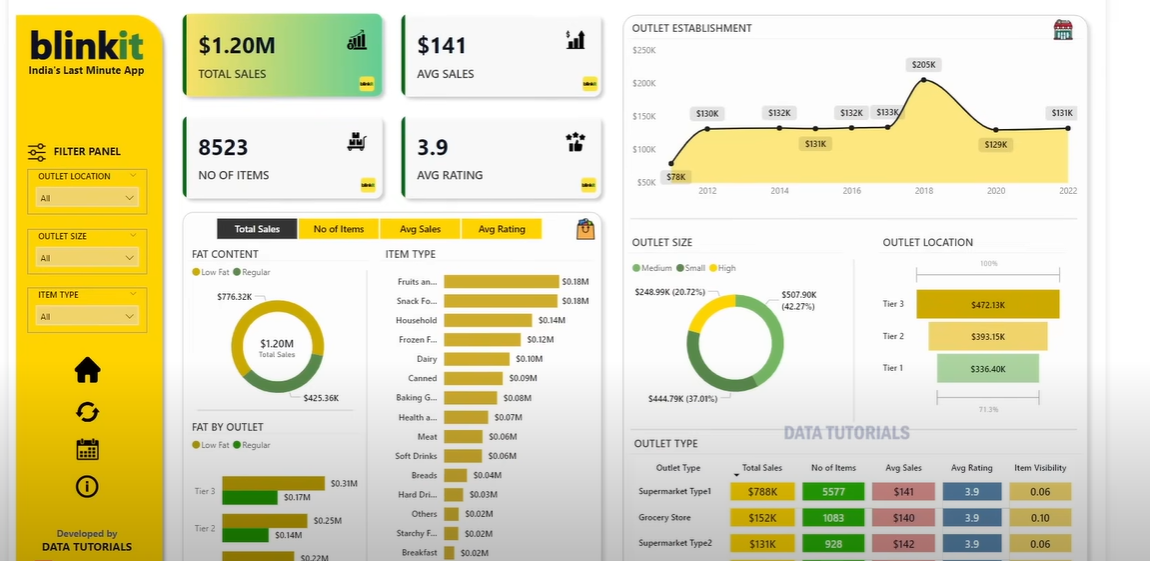

The page's visual inventory and layout, read from the dashboard file:
{"tool":"powerbi","page":{"name":"HOME","canvas":[1400,800],"ordinal":0},"visuals":[{"type":"shape","box":[0,0,204.1,785],"z":0},{"type":"textbox","box":[12,15,165.1,88.6],"z":1000},{"type":"textbox","box":[22.5,72,205.6,31.5],"z":2000},{"type":"textbox","box":[759.4,748.9,12,12],"z":3000},{"type":"cardVisual","fields":{"Data":["BlinkIT Grocery Data.Total sales","BlinkIT Grocery Data.Avg Sales","BlinkIT Grocery Data.No of items","BlinkIT Grocery Data.Avg Rating"]},"box":[204.1,15,541.8,270.2],"z":4000},{"type":"shape","box":[205.6,285.2,528.3,489.3],"z":5000},{"type":"donutChart","title":"FAT CONTENT","fields":{"Y":["BlinkIT Grocery Data.No of items"],"Category":["BlinkIT Grocery Data.Item Fat Content"]},"box":[228.1,351.2,220.6,189.1],"z":6000},{"type":"slicer","fields":{"Values":["Metrics.Metrics"]},"box":[228.1,300.2,465.3,40.5],"z":7000},{"type":"cardVisual","fields":{"Data":["BlinkIT Grocery Data.No of items"]},"box":[294.2,435.3,93.1,70.5],"z":8000},{"type":"clusteredBarChart","title":"FAT BY OUTLET","fields":{"Y":["BlinkIT Grocery Data.No of items"],"Category":["BlinkIT Grocery Data.Outlet Location Type"],"Series":["BlinkIT Grocery Data.Item Fat Content"]},"box":[228.1,540.3,229.6,220.6],"z":9000},{"type":"shape","box":[228.1,492.3,213.1,96.1],"z":10000},{"type":"shape","box":[351.2,351.2,213.1,397.7],"z":11000},{"type":"barChart","title":"ITEM TYPE","fields":{"Y":["BlinkIT Grocery Data.No of items"],"Category":["BlinkIT Grocery Data.Item Type"]},"box":[463.8,351.2,247.6,397.7],"z":12000},{"type":"shape","box":[733.9,28.5,655.9,745.9],"z":13000},{"type":"lineChart","title":"OUTLET ESTABLISHMENT","fields":{"Y":["BlinkIT Grocery Data.Total sales"],"Category":["BlinkIT Grocery Data.Outlet Establishment Year"]},"box":[745.9,51,625.9,270.2],"z":14000},{"type":"donutChart","title":"OUTLET SIZE","fields":{"Y":["BlinkIT Grocery Data.Total sales"],"Category":["BlinkIT Grocery Data.Outlet Size"]},"box":[759.4,321.2,275,220],"z":15000},{"type":"shape","box":[927.5,340.7,213.1,210.1],"z":16000},{"type":"shape","box":[756.4,273.2,615.4,96.1],"z":17000},{"type":"funnel","title":"OUTLET LOCATION","fields":{"Y":["BlinkIT Grocery Data.Total sales"],"Category":["BlinkIT Grocery Data.Outlet Location Type"]},"box":[1049.1,330.2,300.2,220.6],"z":18000},{"type":"pivotTable","title":"OUTLET TYPE","fields":{"Rows":["BlinkIT Grocery Data.Outlet Type"],"Values":["BlinkIT Grocery Data.Total sales","BlinkIT Grocery Data.Avg Sales","BlinkIT Grocery Data.No of items","BlinkIT Grocery Data.Avg Rating","Avg(BlinkIT Grocery Data.Item Visibility)"]},"box":[750.4,570.3,615.4,184.6],"z":19000},{"type":"shape","box":[756.4,505.8,603.3,96.1],"z":20000},{"type":"slicer","fields":{"Values":["BlinkIT Grocery Data.Outlet Location Type"]},"box":[14.6,199.7,174.6,84.7],"z":21000},{"type":"slicer","fields":{"Values":["BlinkIT Grocery Data.Outlet Size"]},"box":[14.6,308.2,174.6,84.7],"z":22000},{"type":"slicer","fields":{"Values":["BlinkIT Grocery Data.Outlet Type"]},"box":[14.6,420.6,174.6,84.7],"z":23000}]}

Visuals, with their boxes on the page's 1400x800 design canvas (x1, y1, x2, y2). These are canvas units, not pixel positions in the 1150x561 screenshot, which may show the page scaled, cropped or inside an application window:
shape: detection(0, 0, 204, 785)
textbox: detection(12, 15, 177, 104)
textbox: detection(22, 72, 228, 104)
textbox: detection(759, 749, 771, 761)
cardVisual - BlinkIT Grocery Data.Total sales x BlinkIT Grocery Data.Avg Sales: detection(204, 15, 746, 285)
shape: detection(206, 285, 734, 774)
"FAT CONTENT" donutChart: detection(228, 351, 449, 540)
slicer - Metrics.Metrics: detection(228, 300, 693, 341)
cardVisual - BlinkIT Grocery Data.No of items: detection(294, 435, 387, 506)
"FAT BY OUTLET" clusteredBarChart: detection(228, 540, 458, 761)
shape: detection(228, 492, 441, 588)
shape: detection(351, 351, 564, 749)
"ITEM TYPE" barChart: detection(464, 351, 711, 749)
shape: detection(734, 28, 1390, 774)
"OUTLET ESTABLISHMENT" lineChart: detection(746, 51, 1372, 321)
"OUTLET SIZE" donutChart: detection(759, 321, 1034, 541)
shape: detection(928, 341, 1141, 551)
shape: detection(756, 273, 1372, 369)
"OUTLET LOCATION" funnel: detection(1049, 330, 1349, 551)
"OUTLET TYPE" pivotTable: detection(750, 570, 1366, 755)
shape: detection(756, 506, 1360, 602)
slicer - BlinkIT Grocery Data.Outlet Location Type: detection(15, 200, 189, 284)
slicer - BlinkIT Grocery Data.Outlet Size: detection(15, 308, 189, 393)
slicer - BlinkIT Grocery Data.Outlet Type: detection(15, 421, 189, 505)
